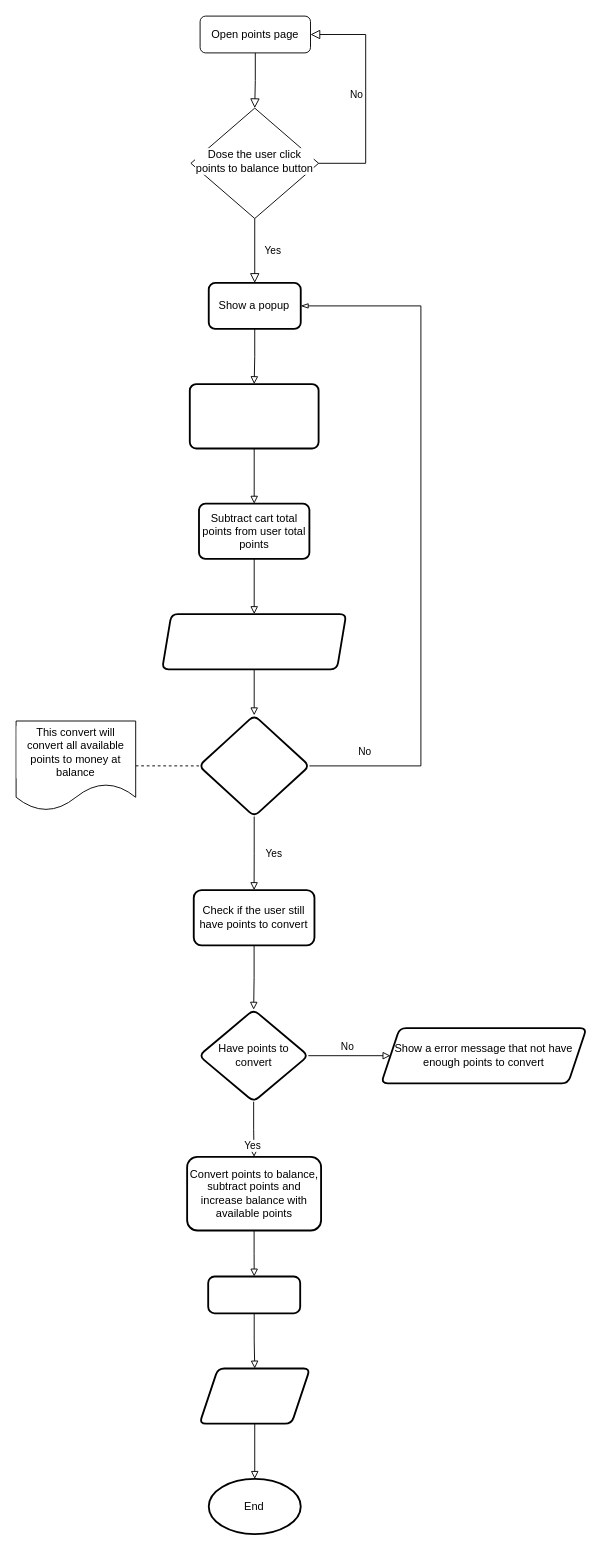
Image size: 604x1551. Some labels were removed from this diagram. The shapes that lost their labels are listed below. From the top down, each one's centre as x and y in pixels, then its label:
[253,416]: Get the user total points and Calculate total points value
[254,641]: Display amount of money that will converted to balance
[254,765]: Dose confirm to convert
[254,1294]: Close a popup
[254,1395]: Show success message
